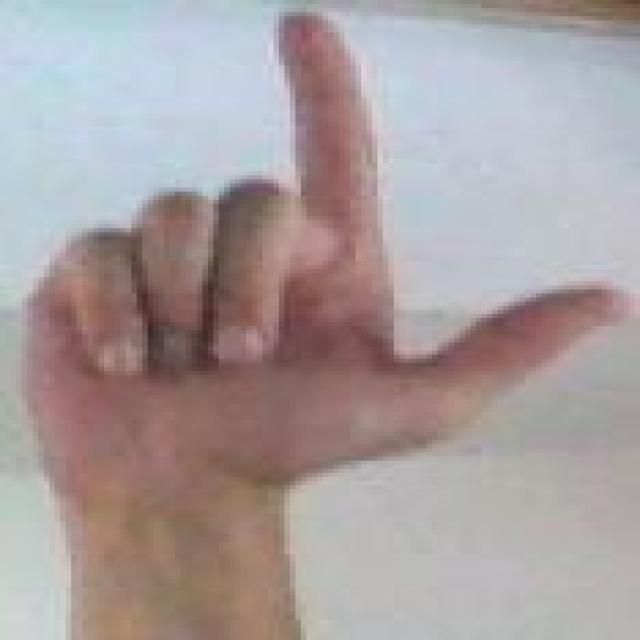L: (7, 6, 640, 488)
